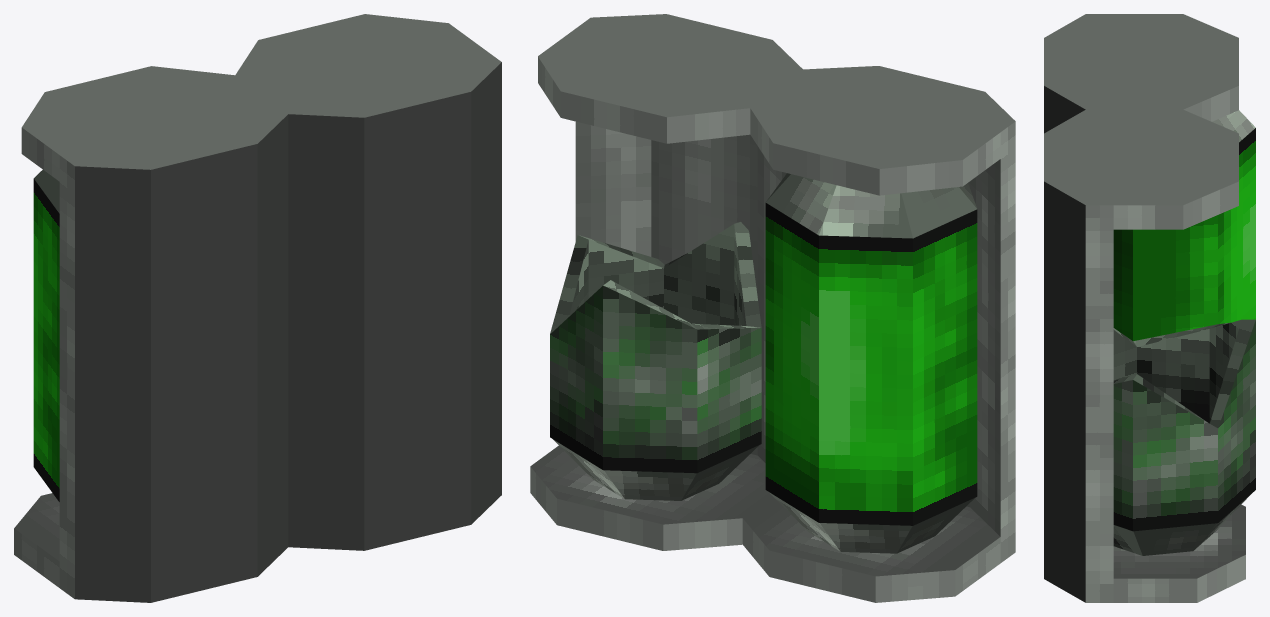
File: CellSlot.gltf
3 renders of one model, left to right at view 1: azimuth 30°, elevation 25°; view 2: azimuth 150°, elevation 25°; view 3: azimuth 270°, elevation 25°, orthographic. The views are drawn at different scales.
Parts seen in each view (by area): view 1: cube, cylinder; view 2: cube, cylinder (×2), sphere (×3); view 3: cube, cylinder (×2), sphere (×2).
Boxes of the visible parts, x1,y1,x2,y2 form: cube: (14,14,501,602); cylinder: (33,179,59,501); cube: (530,14,1015,602); cylinder (×2): (550,203,977,525); sphere (×3): (553,173,977,553); cube: (1044,14,1245,602); cylinder (×2): (1113,128,1255,531); sphere (×2): (1113,110,1255,555).
Bounding box in the file's own units: 2.03 × 1.97 × 0.9509.
1 material, 1 textured.
